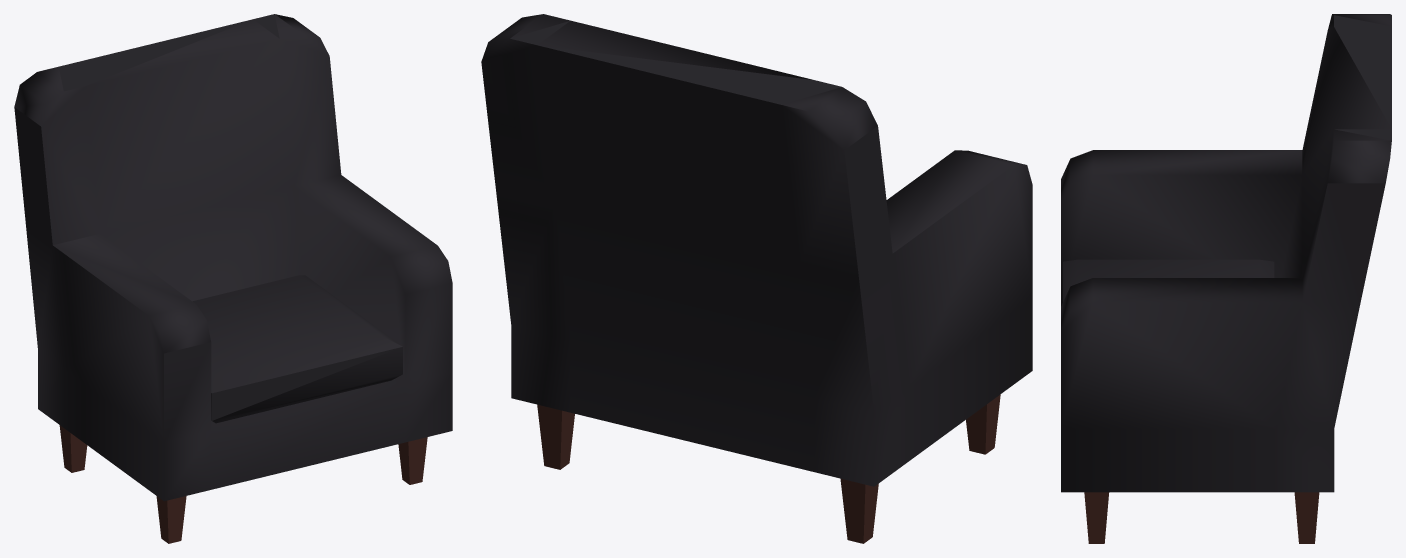
Rendered from armchair.glb.
The picture shows the model from 3 angles, left to right: view 1: azimuth 30°, elevation 25°; view 2: azimuth 150°, elevation 25°; view 3: azimuth 270°, elevation 25°; orthographic projection. The views are drawn at different scales.
Visible parts, largest first — view 1: armchair; view 2: armchair; view 3: armchair.
Boxes of the visible parts, <box> form: armchair: <box>14,14,452,543</box>; armchair: <box>481,14,1032,543</box>; armchair: <box>1061,14,1391,543</box>.
Bounding box in the file's own units: 0.7391 × 0.9 × 0.6766.
